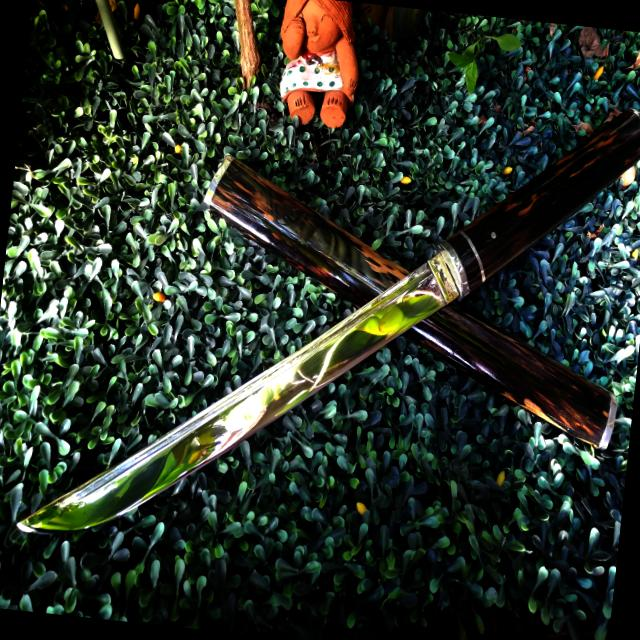short sword: (8, 52, 640, 612)
